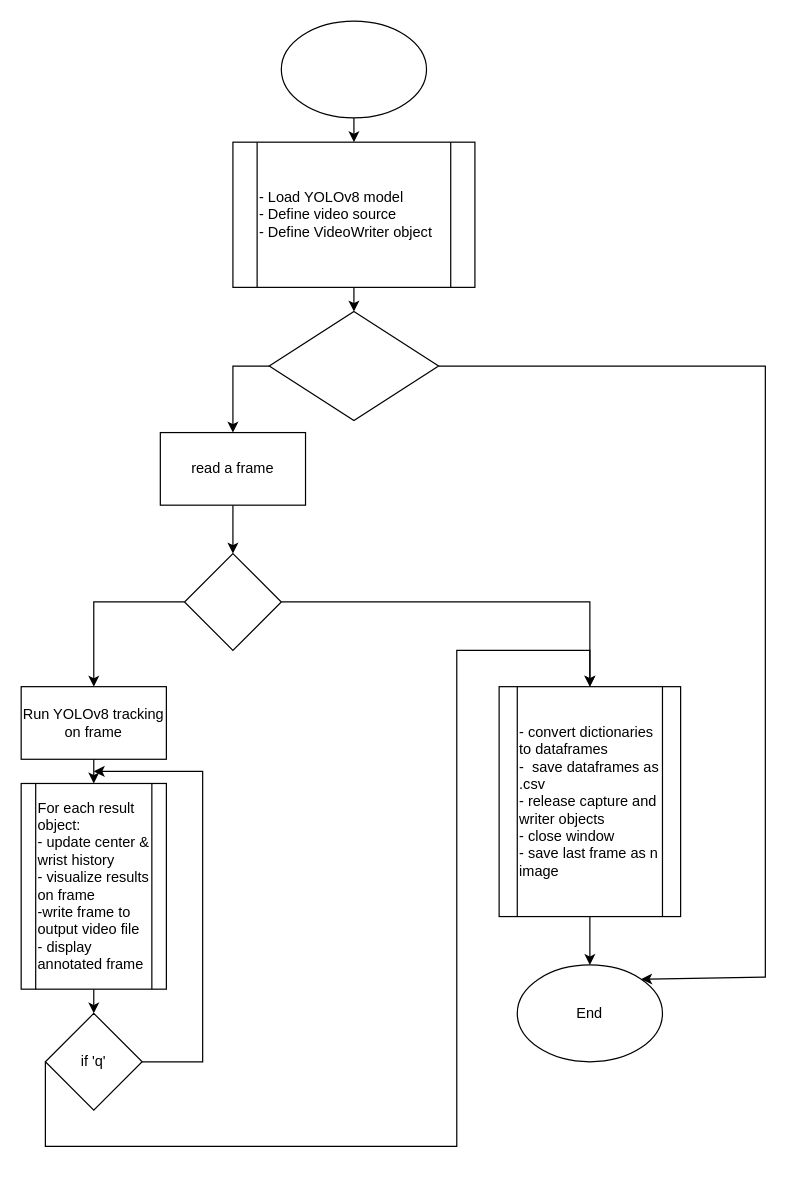
Image size: 796x1177. Some labels were removed from this diagram. Here are the shapes that lost their labels. From the top down, the centre of each, then its label:
point (353, 69): Start
point (353, 365): While video capture object cap
point (232, 601): if frame
